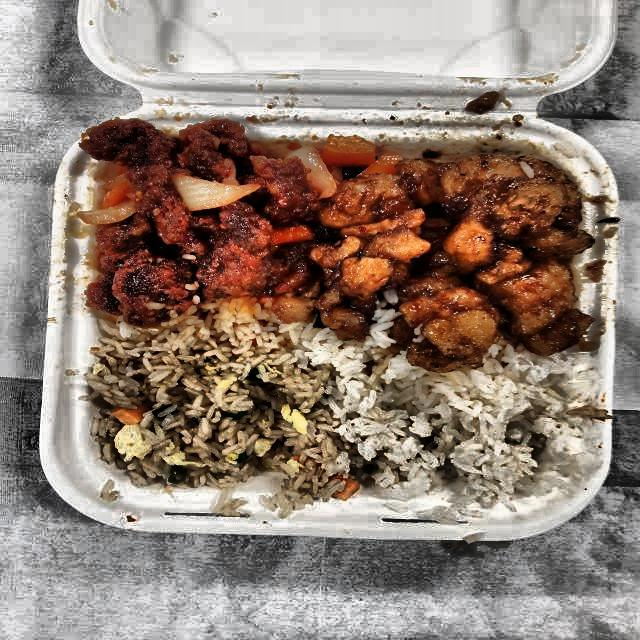Food: (296, 127, 617, 363), (70, 115, 310, 320), (86, 322, 368, 495), (389, 352, 601, 514)
